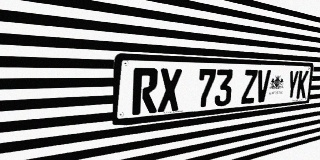3: (214, 69, 233, 107)
7: (195, 69, 216, 109)
K: (296, 70, 309, 99)
R: (132, 68, 159, 115)
V: (255, 70, 271, 103)
X: (158, 68, 182, 113)
Y: (286, 70, 299, 100)
Z: (241, 70, 258, 104)
